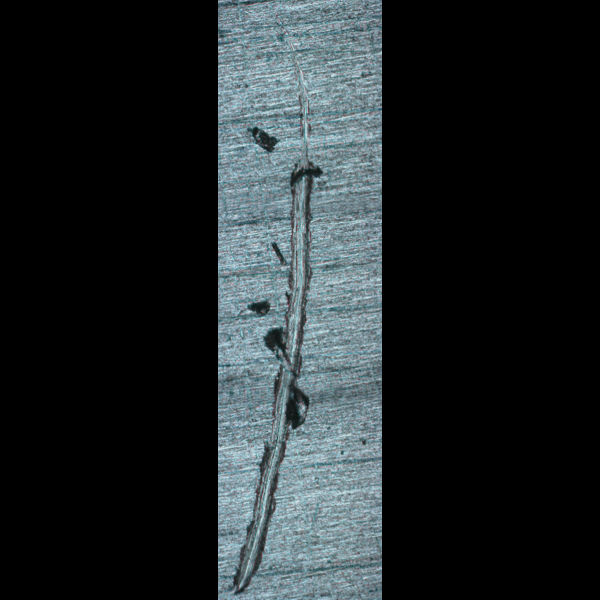d: (227, 15, 326, 596)
